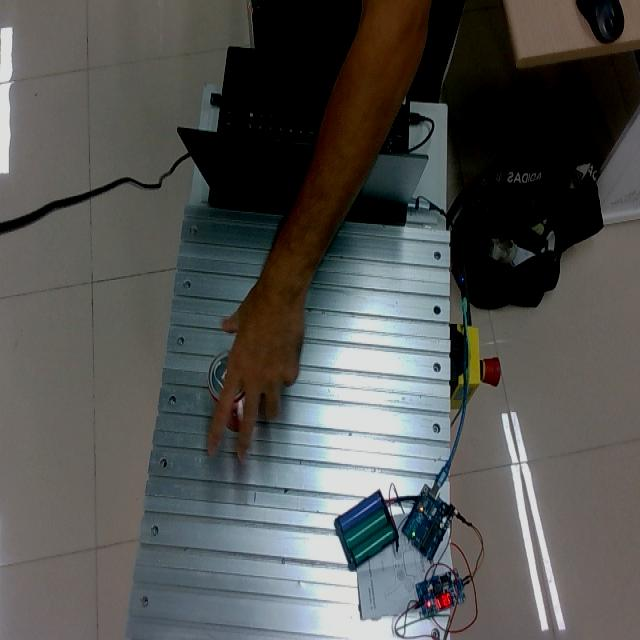coca: (205, 348, 249, 432)
